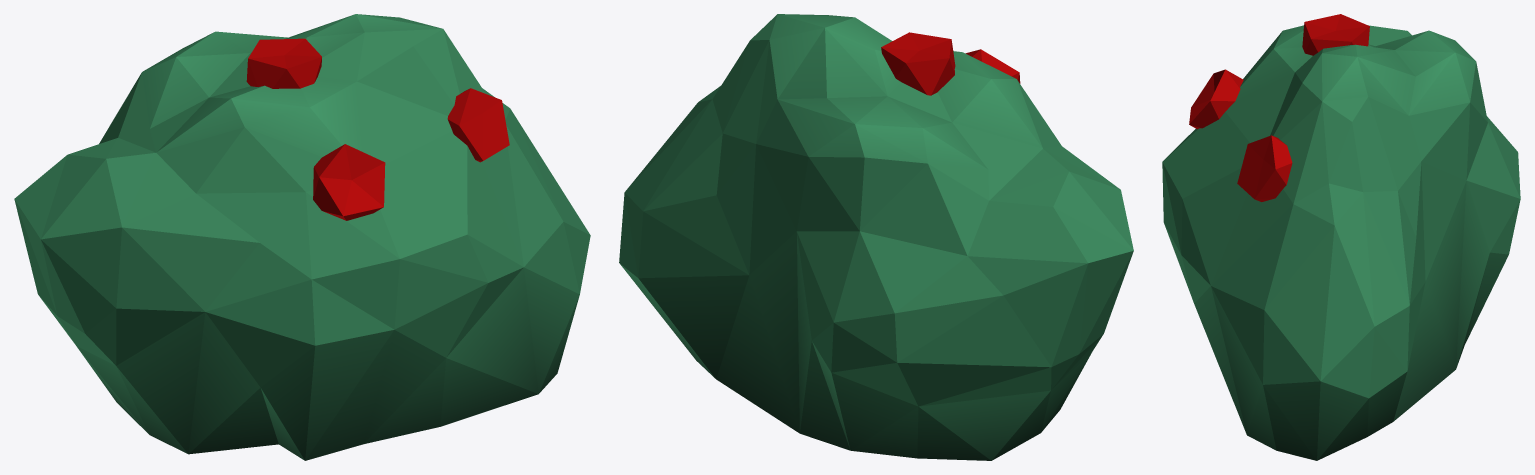
File: bush_red_1.fbx
3 renders of one model, left to right at view 1: azimuth 30°, elevation 25°; view 2: azimuth 150°, elevation 25°; view 3: azimuth 270°, elevation 25°, orthographic. The views are drawn at different scales.
Visible parts, largest first — view 1: bush_red_1; view 2: bush_red_1; view 3: bush_red_1.
Boxes of the visible parts, left/top/right/bottom form: bush_red_1: left=14, top=14, right=590, bottom=460; bush_red_1: left=619, top=14, right=1133, bottom=460; bush_red_1: left=1162, top=14, right=1520, bottom=460.
Bounding box in the file's own units: 124 × 81.43 × 81.19.
